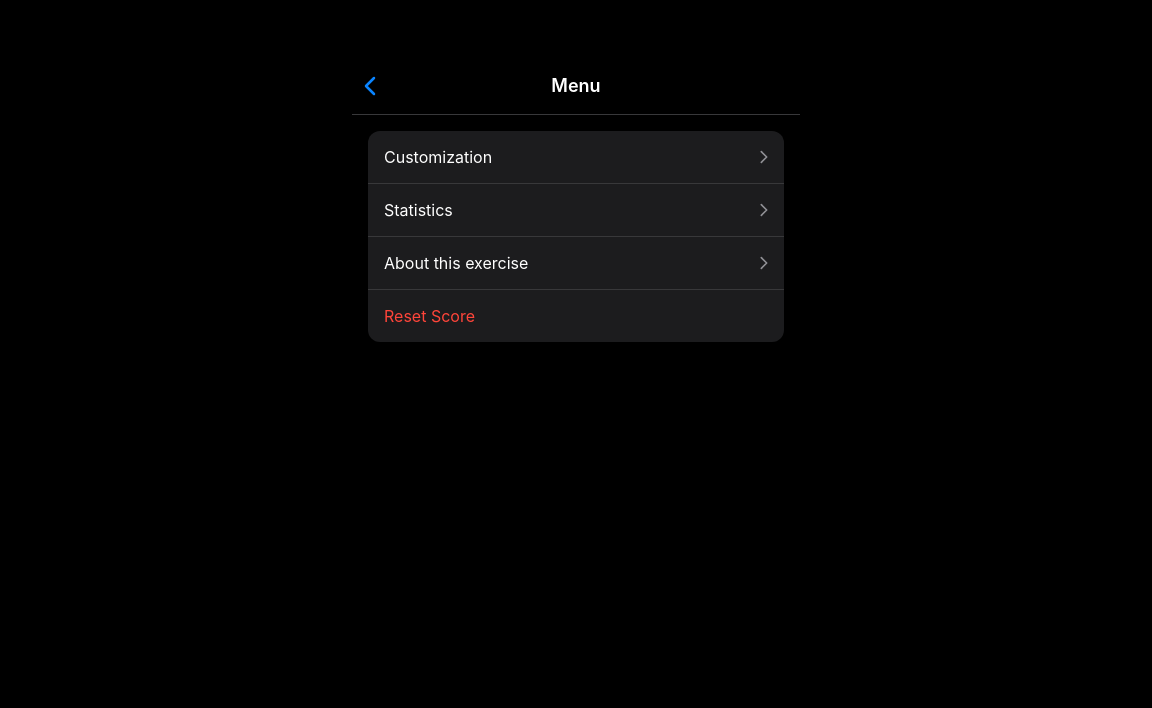
Scenario: reaching it from the menu › sits between Statistics and Reset Score
Click the button "About this exercise": (456, 263) [368,236,784,289]
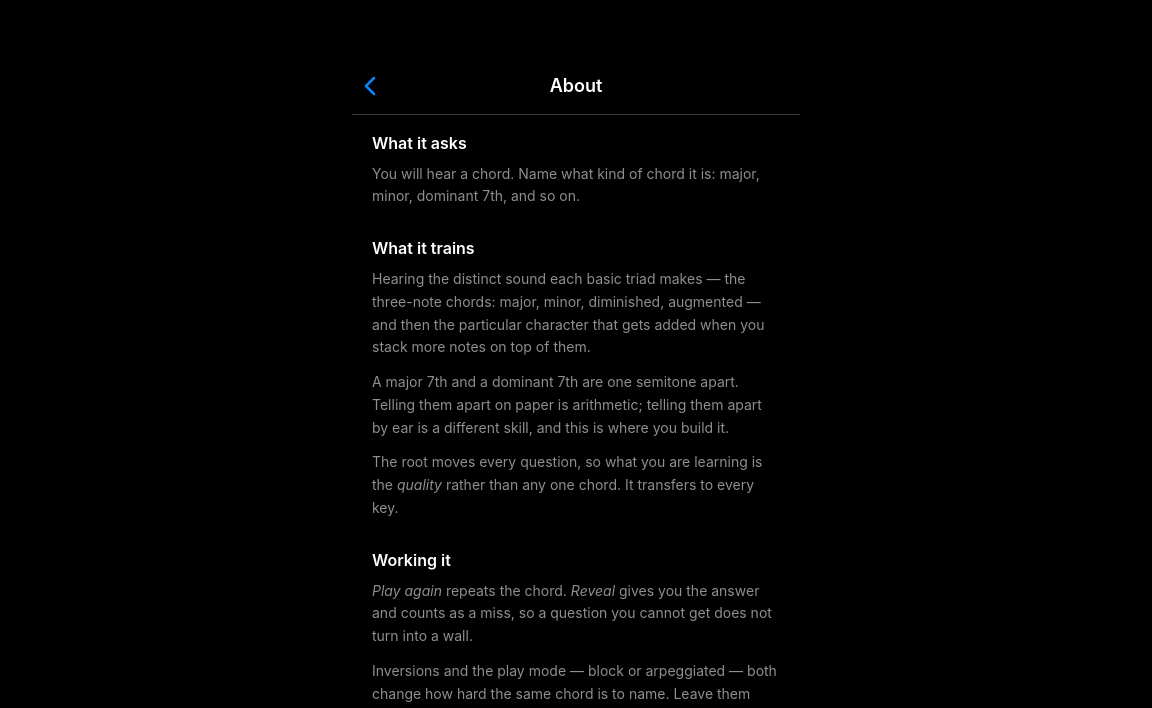
expect the heading "What it asks" is shown: met, box [372,133,467,153]
